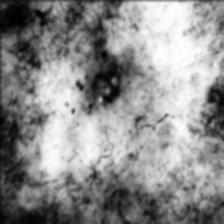Potentially Malignant Skin Tumors: (72, 44, 130, 112)
